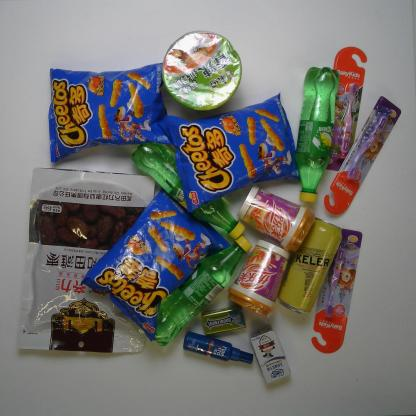Alcohol: (277, 216, 344, 318)
Dried Food: (13, 165, 157, 355)
Drink: (131, 142, 246, 241), (154, 235, 254, 348), (294, 64, 342, 204)
Gum: (199, 304, 246, 337)
Instant Drink: (237, 182, 316, 256), (226, 236, 292, 321)
Instant Noodles: (162, 29, 242, 112)
Milk: (248, 325, 292, 386)
Personal Hygiene: (323, 94, 402, 219), (310, 226, 364, 356), (326, 46, 368, 172), (182, 330, 255, 366)
Puffed Food: (78, 184, 232, 344), (158, 90, 302, 215), (47, 61, 169, 163)
